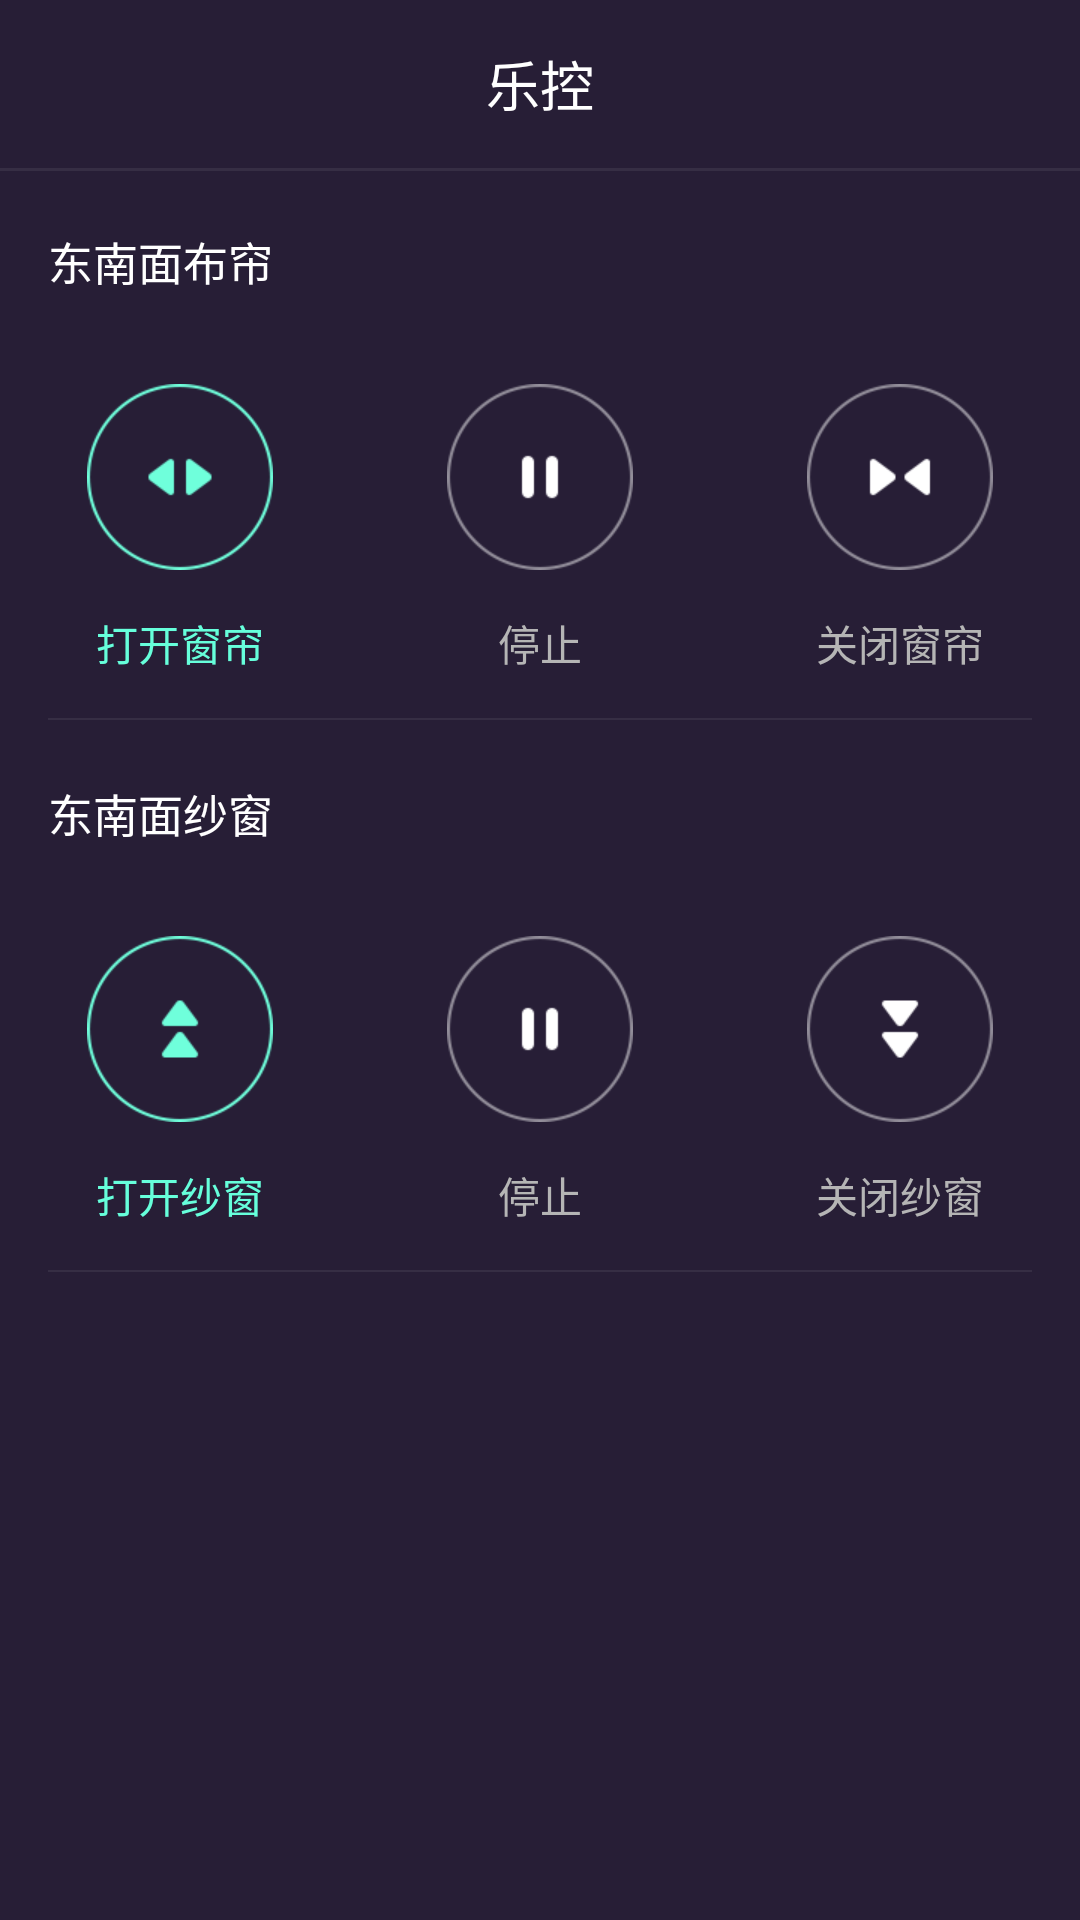

Icons on this 1080×1920 Android screen, each with its box as (left=x1, top=y1, right=x2, bottom=y2):
down: (left=807, top=936, right=993, bottom=1122)
pause: (left=447, top=384, right=633, bottom=570), (left=447, top=936, right=633, bottom=1122)
up click: (left=87, top=936, right=273, bottom=1122)
